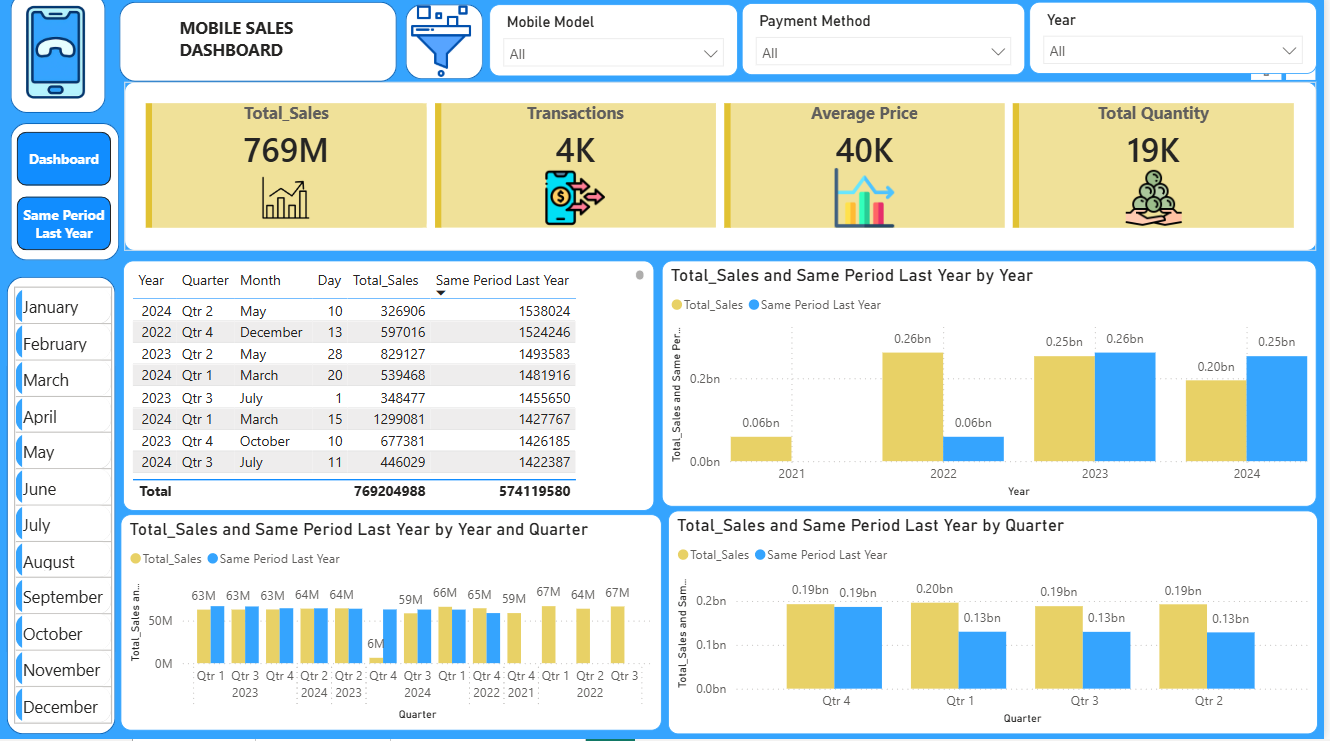

The dashboard page shown, as its layout file describes it:
{"tool":"powerbi","page":{"name":"Same Period Last Year","canvas":[1280,720],"ordinal":2},"visuals":[{"type":"shape","box":[12.1,0,91.7,115.8],"z":0},{"type":"image","box":[0,7.2,111,101.3],"z":1000},{"type":"shape","box":[12.1,125.5,105,132.7],"z":2000},{"type":"shape","box":[8.4,273.9,105,441.6],"z":3000},{"type":"cardVisual","fields":{"Data":["Custom_Calendar.Total_Sales","Custom_Calendar.Transitions","Custom_Calendar.Averege_Price","Custom_Calendar.Total_Quantity"]},"box":[121.9,85.7,1150.9,162.9],"z":4000},{"type":"advancedSlicerVisual","fields":{"Values":["Sales_Data.Date.Variation.Date Hierarchy.Month"]},"box":[10.9,278.4,105,441.6],"z":5000},{"type":"slicer","fields":{"Values":["Custom_Calendar.Mobile Model"]},"box":[474.1,10.9,240.1,70],"z":6000},{"type":"slicer","fields":{"Values":["Custom_Calendar.Payment Method"]},"box":[717.8,9.7,273.9,70],"z":7000},{"type":"slicer","fields":{"Values":["Sales_Data.Date.Variation.Date Hierarchy.Year","Sales_Data.Date.Variation.Date Hierarchy.Quarter","Sales_Data.Date.Variation.Date Hierarchy.Month","Sales_Data.Date.Variation.Date Hierarchy.Day"]},"box":[995.3,8.4,277.5,70],"z":8000},{"type":"shape","box":[393.3,10.9,74.8,72.4],"z":9000},{"type":"image","box":[387.3,10.9,80.8,71.2],"z":10000},{"type":"shape","box":[117,8.4,267.8,77.2],"z":11000},{"type":"textbox","box":[170.1,16.9,191.8,62.7],"z":12000},{"type":"pageNavigator","box":[18.1,133.9,91.7,114.6],"z":13000},{"type":"tableEx","fields":{"Values":["Sales_Data.Date.Variation.Date Hierarchy.Year","Sales_Data.Date.Variation.Date Hierarchy.Quarter","Sales_Data.Date.Variation.Date Hierarchy.Month","Sales_Data.Date.Variation.Date Hierarchy.Day","Custom_Calendar.Total_Sales","Custom_Calendar.Same Period Last Year"]},"box":[120.6,258.2,512.7,241.3],"z":14000},{"type":"clusteredColumnChart","fields":{"Category":["Sales_Data.Date.Variation.Date Hierarchy.Year","Sales_Data.Date.Variation.Date Hierarchy.Quarter","Sales_Data.Date.Variation.Date Hierarchy.Month","Sales_Data.Date.Variation.Date Hierarchy.Day"],"Y":["Custom_Calendar.Total_Sales","Custom_Calendar.Same Period Last Year"]},"box":[640.6,258.2,632.2,237.7],"z":15000},{"type":"clusteredColumnChart","fields":{"Category":["Sales_Data.Date.Variation.Date Hierarchy.Year","Sales_Data.Date.Variation.Date Hierarchy.Quarter","Sales_Data.Date.Variation.Date Hierarchy.Month","Sales_Data.Date.Variation.Date Hierarchy.Day"],"Y":["Custom_Calendar.Total_Sales","Custom_Calendar.Same Period Last Year"]},"box":[118.2,503.1,522.4,208.7],"z":16000},{"type":"clusteredColumnChart","fields":{"Category":["Sales_Data.Date.Variation.Date Hierarchy.Year","Sales_Data.Date.Variation.Date Hierarchy.Quarter","Sales_Data.Date.Variation.Date Hierarchy.Month","Sales_Data.Date.Variation.Date Hierarchy.Day"],"Y":["Custom_Calendar.Total_Sales","Custom_Calendar.Same Period Last Year"]},"box":[646.7,499.5,627.3,216],"z":17000}]}

Visuals, with their boxes in screenshot pixels (x1, y1, x2, y2), scaled from the page's 1280x720 canvas onto the 1330x741 screenshot:
shape: [left=13, top=0, right=108, bottom=119]
image: [left=0, top=7, right=115, bottom=112]
shape: [left=13, top=129, right=122, bottom=266]
shape: [left=9, top=282, right=118, bottom=736]
cardVisual - Custom_Calendar.Total_Sales x Custom_Calendar.Transitions: [left=127, top=88, right=1323, bottom=256]
advancedSlicerVisual - Sales_Data.Date.Variation.Date Hierarchy.Month: [left=11, top=287, right=120, bottom=740]
slicer - Custom_Calendar.Mobile Model: [left=493, top=11, right=742, bottom=83]
slicer - Custom_Calendar.Payment Method: [left=746, top=10, right=1030, bottom=82]
slicer - Sales_Data.Date.Variation.Date Hierarchy.Year x Sales_Data.Date.Variation.Date Hierarchy.Quarter: [left=1034, top=9, right=1323, bottom=81]
shape: [left=409, top=11, right=486, bottom=86]
image: [left=402, top=11, right=486, bottom=84]
shape: [left=122, top=9, right=400, bottom=88]
textbox: [left=177, top=17, right=376, bottom=82]
pageNavigator: [left=19, top=138, right=114, bottom=256]
tableEx - Sales_Data.Date.Variation.Date Hierarchy.Year x Sales_Data.Date.Variation.Date Hierarchy.Quarter: [left=125, top=266, right=658, bottom=514]
clusteredColumnChart - Sales_Data.Date.Variation.Date Hierarchy.Year x Sales_Data.Date.Variation.Date Hierarchy.Quarter: [left=666, top=266, right=1323, bottom=510]
clusteredColumnChart - Sales_Data.Date.Variation.Date Hierarchy.Year x Sales_Data.Date.Variation.Date Hierarchy.Quarter: [left=123, top=518, right=666, bottom=733]
clusteredColumnChart - Sales_Data.Date.Variation.Date Hierarchy.Year x Sales_Data.Date.Variation.Date Hierarchy.Quarter: [left=672, top=514, right=1324, bottom=736]
